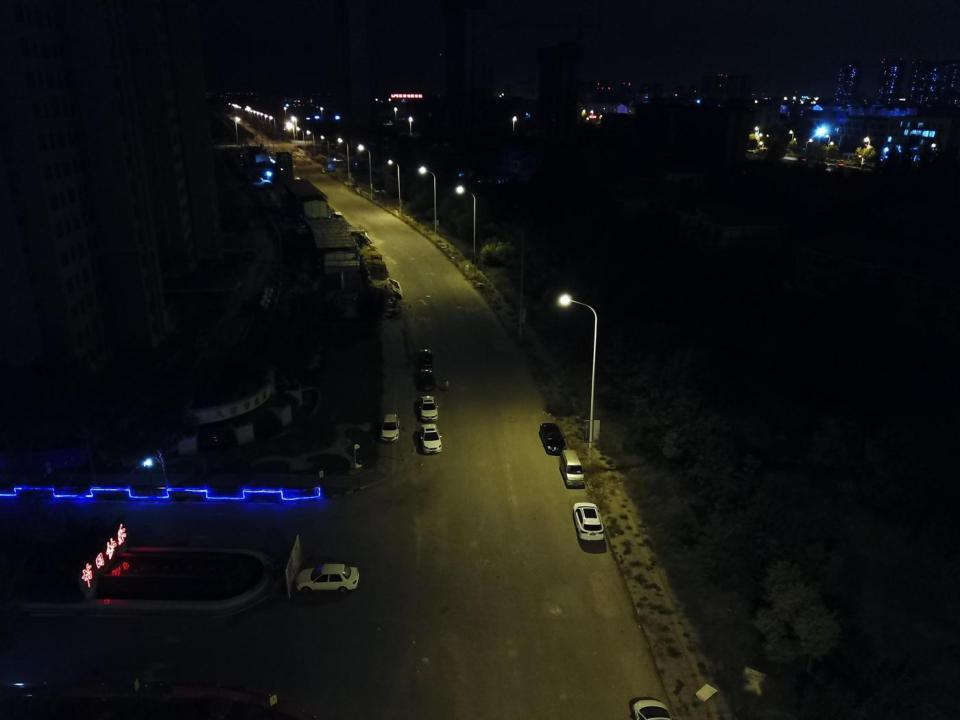car: (295, 564, 359, 593), (572, 502, 605, 542), (540, 422, 567, 456), (420, 423, 442, 454), (380, 413, 400, 442), (420, 396, 438, 421), (419, 369, 435, 390), (418, 349, 434, 369)
van: (559, 449, 585, 486)
